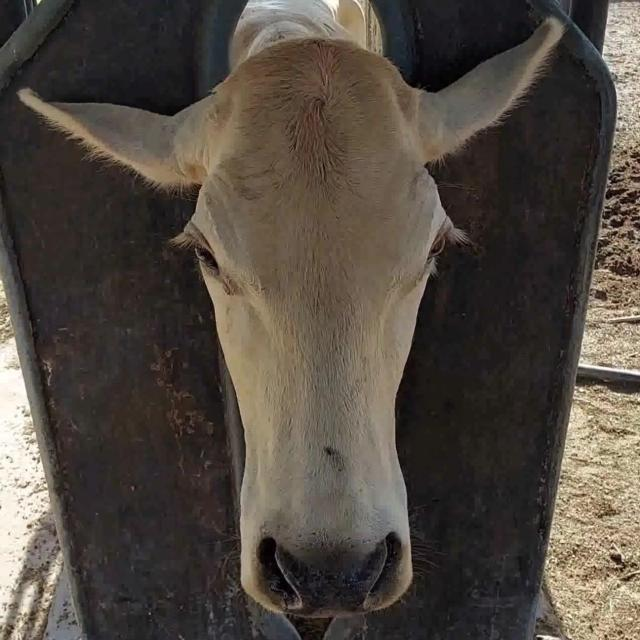cowFace: (180, 39, 447, 617)
